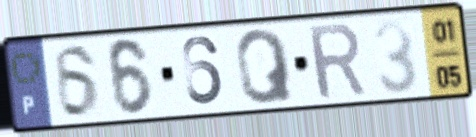3: (372, 16, 421, 97)
6: (107, 35, 155, 118), (51, 43, 103, 119), (180, 34, 227, 109)
Q: (233, 26, 298, 107)
R: (305, 19, 370, 103)
